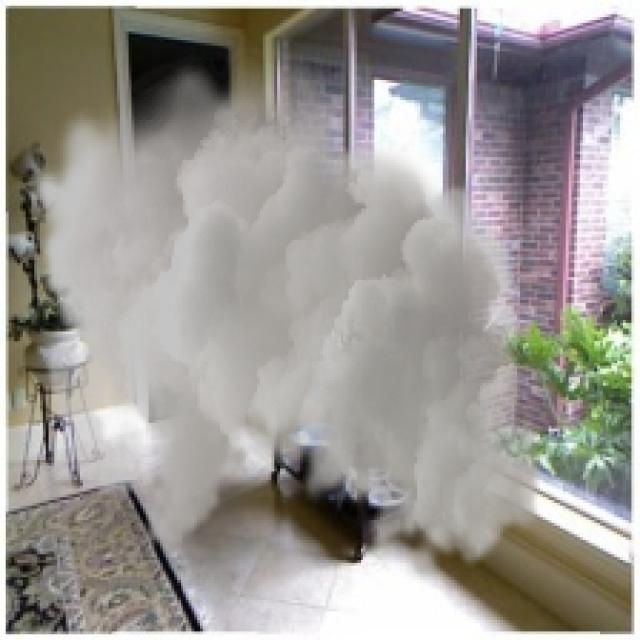smoke: (28, 43, 546, 586)
